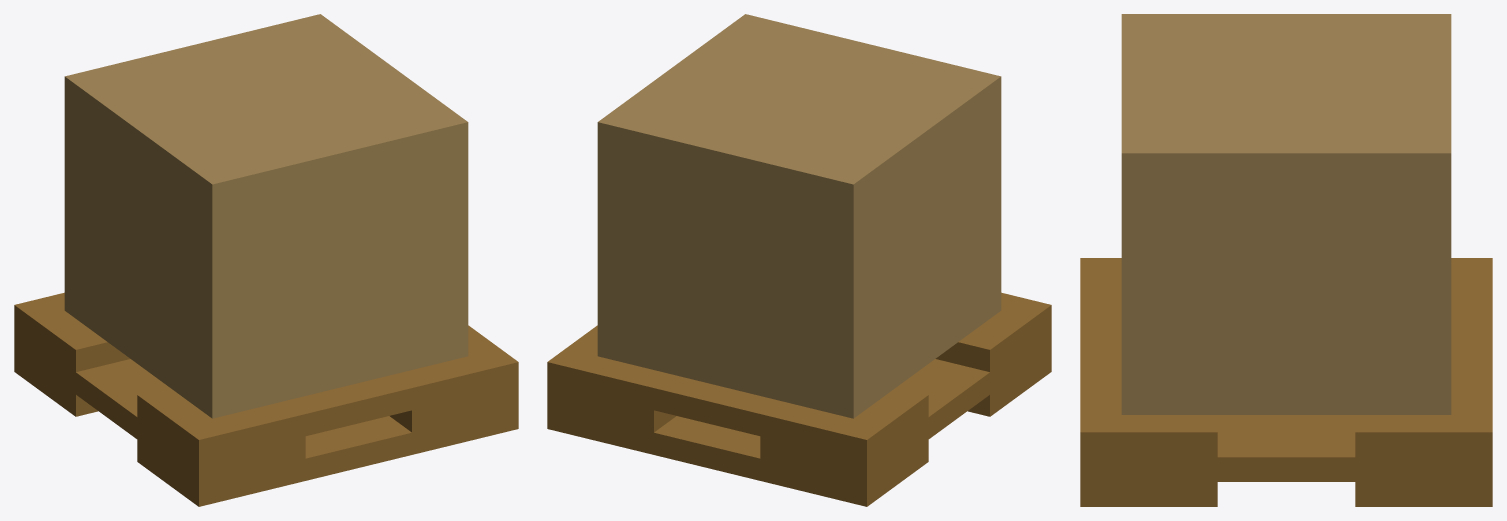
The model's file is pod.gltf.
3 views of the same model, side by side, from view 1: azimuth 30°, elevation 25°; view 2: azimuth 150°, elevation 25°; view 3: azimuth 270°, elevation 25° (orthographic). The views are drawn at different scales.
Parts seen in each view (by area): view 1: Cube; view 2: Cube; view 3: Cube.
Part boxes in pixels (box(x1,y1,x2,y2)): Cube: box(14, 14, 518, 506); Cube: box(547, 14, 1051, 506); Cube: box(1080, 14, 1492, 506).
Size of the model in its own units: 0.9 by 0.81 by 0.9.
